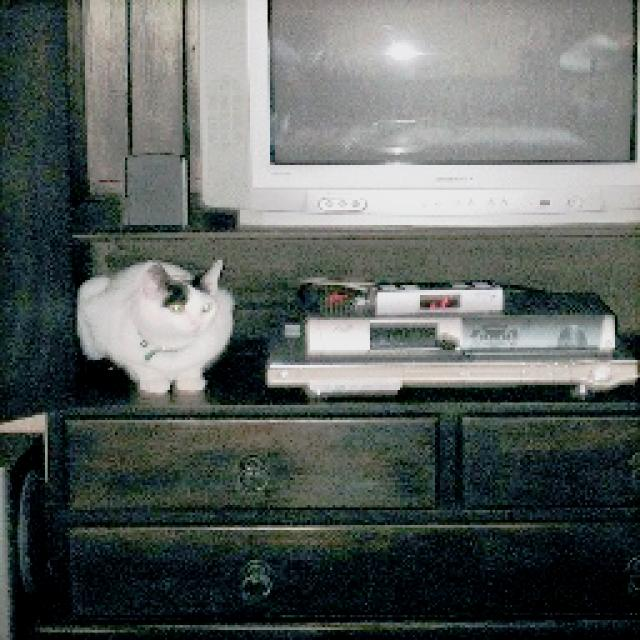cat: (72, 252, 233, 400)
